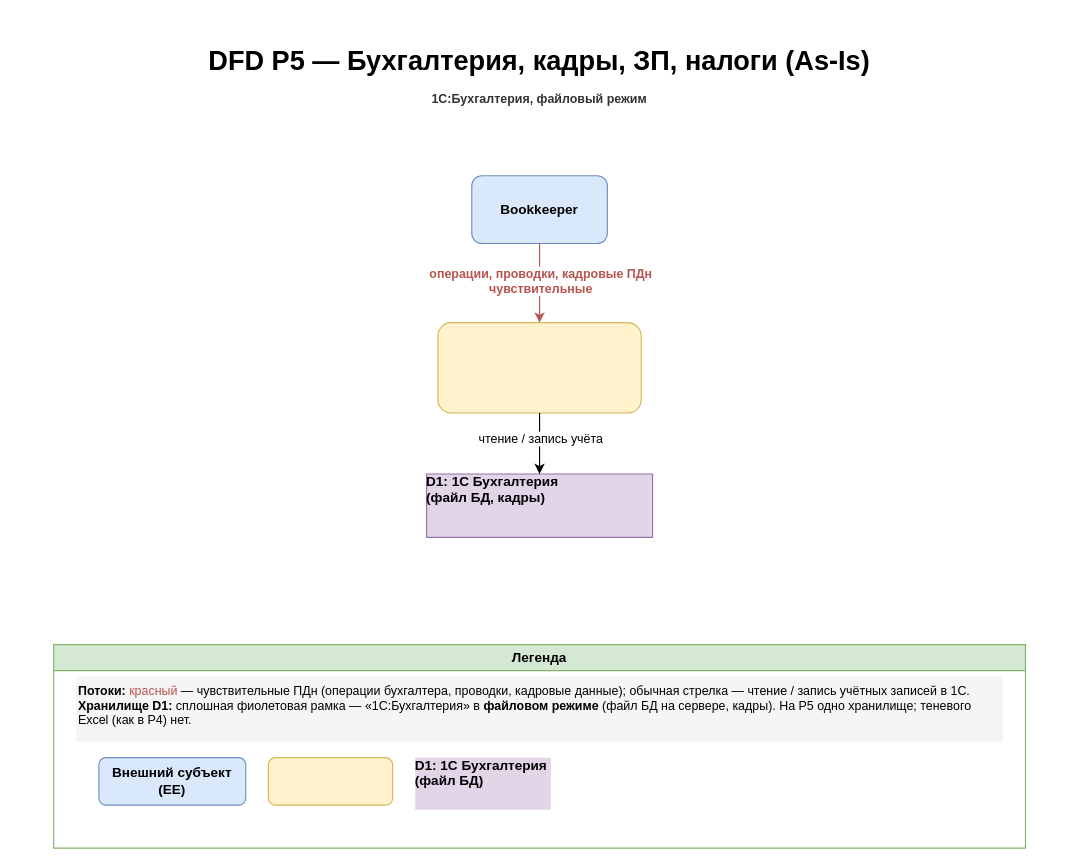
Image size: 1078x868. Some labels were removed from this diagram. Each missing label, with the box of its shape:
5.0 Бухучёт, кадры, налоги, ЗП: (437, 321, 641, 413)
Процесс (P): (267, 757, 393, 805)
